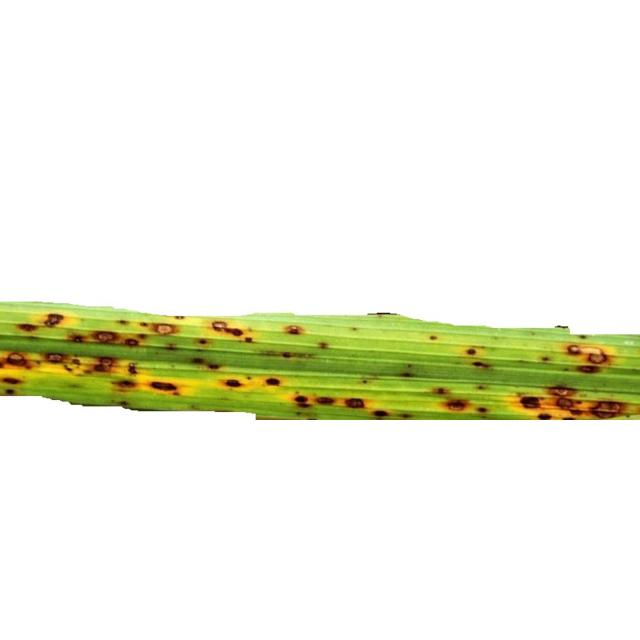Brown spot: (513, 387, 640, 421), (210, 316, 262, 347), (44, 347, 83, 377), (85, 350, 124, 378), (0, 349, 40, 375), (442, 400, 498, 418), (38, 305, 83, 326), (143, 381, 185, 399), (290, 391, 314, 420), (154, 313, 184, 336), (258, 350, 314, 362), (191, 355, 225, 374), (568, 360, 602, 377), (0, 375, 27, 396), (215, 374, 245, 392), (10, 317, 38, 334), (262, 371, 288, 389), (588, 346, 614, 364), (124, 333, 149, 351), (341, 393, 366, 411), (93, 328, 120, 344), (316, 391, 337, 411), (278, 321, 304, 337), (469, 358, 496, 372), (108, 379, 138, 391), (424, 383, 454, 395), (371, 404, 392, 420), (126, 362, 148, 377), (68, 330, 88, 346), (564, 345, 586, 358), (536, 354, 558, 366), (424, 332, 444, 344), (396, 362, 418, 371), (464, 345, 482, 356), (575, 328, 589, 342), (317, 335, 329, 350), (397, 410, 417, 419), (392, 372, 420, 378), (357, 375, 372, 386), (162, 342, 178, 352), (347, 323, 360, 334), (477, 382, 491, 392), (118, 317, 131, 327), (139, 318, 151, 328), (196, 336, 208, 346), (245, 373, 252, 382)
